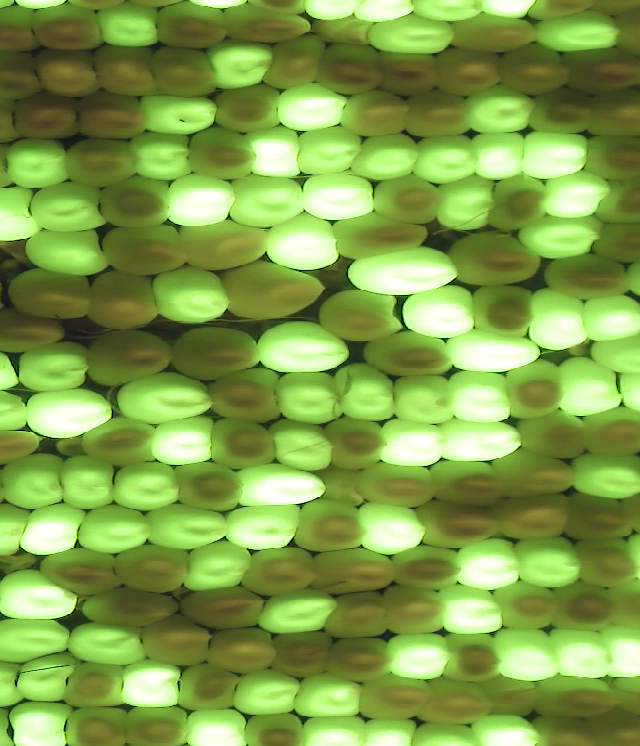fluorescent: (340, 236, 467, 297), (250, 317, 355, 379), (113, 366, 217, 426), (21, 384, 119, 446), (351, 495, 437, 562), (21, 223, 117, 282), (150, 262, 236, 327), (229, 459, 334, 512), (431, 410, 530, 465), (439, 324, 545, 375), (520, 283, 594, 356), (550, 351, 626, 421), (108, 452, 191, 515), (222, 171, 309, 231), (296, 168, 383, 227), (272, 366, 352, 430), (255, 581, 342, 639), (460, 81, 544, 141), (218, 501, 311, 555), (157, 170, 240, 230), (274, 77, 353, 140), (261, 211, 341, 273), (0, 566, 84, 625), (400, 282, 481, 343), (18, 332, 95, 396), (360, 9, 460, 58), (332, 357, 402, 427), (177, 537, 260, 596), (492, 622, 565, 689), (443, 365, 518, 430), (0, 133, 76, 197), (75, 501, 158, 559), (517, 211, 606, 265), (449, 534, 529, 594), (513, 529, 588, 593), (141, 501, 233, 553), (22, 179, 110, 233), (380, 625, 457, 686), (532, 6, 622, 58), (406, 130, 484, 189), (431, 171, 502, 235), (146, 412, 224, 470), (545, 620, 613, 686), (265, 413, 336, 476), (0, 449, 73, 510), (515, 127, 596, 181), (232, 665, 306, 724), (51, 452, 121, 514), (63, 617, 148, 668), (294, 121, 368, 179), (203, 35, 278, 92), (134, 89, 223, 137), (240, 122, 308, 184), (437, 582, 510, 639), (129, 127, 198, 187), (17, 501, 88, 559), (371, 415, 447, 469), (350, 129, 424, 184), (566, 448, 640, 503), (288, 669, 365, 721), (116, 655, 187, 711), (389, 370, 456, 429), (0, 613, 73, 666), (94, 1, 168, 53), (16, 649, 81, 708), (465, 127, 532, 184), (540, 168, 614, 219), (0, 697, 77, 746), (577, 290, 640, 348), (179, 707, 256, 746), (465, 708, 543, 746), (583, 329, 640, 380), (293, 712, 376, 746), (599, 618, 640, 683), (0, 183, 39, 245), (406, 716, 481, 746), (357, 712, 417, 746), (0, 499, 32, 560), (0, 385, 35, 436)
nonfluorescent: (439, 225, 551, 293), (218, 259, 334, 324), (165, 320, 265, 386), (84, 325, 181, 390), (4, 262, 99, 325), (174, 218, 279, 275), (251, 22, 332, 94), (441, 6, 547, 60), (98, 221, 193, 281), (206, 365, 291, 432), (324, 212, 433, 264), (318, 284, 406, 348), (363, 327, 459, 385), (286, 494, 372, 558), (82, 266, 165, 331), (36, 544, 127, 603), (241, 540, 328, 601), (351, 457, 449, 511), (76, 584, 183, 633), (174, 582, 272, 635), (304, 546, 403, 598), (405, 499, 507, 549), (511, 405, 596, 465), (486, 447, 580, 501), (540, 251, 634, 305), (96, 174, 176, 236), (561, 40, 640, 102), (79, 412, 162, 471), (135, 612, 215, 673), (369, 171, 453, 229), (413, 673, 498, 730), (422, 454, 513, 507), (114, 540, 195, 599), (184, 125, 262, 186), (62, 132, 141, 192), (467, 279, 542, 342), (354, 670, 438, 726), (203, 415, 284, 473), (168, 459, 249, 517), (372, 582, 454, 639), (318, 415, 397, 474), (88, 39, 163, 101), (495, 39, 578, 95), (543, 578, 623, 636), (334, 88, 417, 143), (482, 172, 554, 235), (426, 44, 504, 102), (320, 587, 399, 644), (501, 358, 570, 423), (560, 489, 640, 545), (493, 487, 577, 540), (532, 675, 622, 724), (519, 83, 599, 138), (216, 1, 309, 48), (401, 88, 480, 143), (71, 88, 151, 142), (320, 634, 400, 687), (29, 46, 106, 101), (148, 41, 225, 96), (174, 657, 243, 718), (206, 622, 282, 677), (154, 2, 239, 51), (315, 38, 390, 93), (569, 532, 640, 590), (390, 539, 467, 592), (493, 579, 570, 632), (213, 81, 287, 136), (28, 3, 109, 53), (266, 627, 339, 682), (13, 87, 83, 144), (58, 656, 130, 711), (440, 631, 507, 687), (376, 45, 444, 100), (0, 307, 72, 357), (583, 403, 640, 464), (475, 674, 548, 721), (585, 83, 640, 143), (580, 130, 640, 183), (120, 704, 194, 746), (63, 702, 133, 746), (0, 47, 45, 105), (239, 709, 309, 746), (529, 709, 598, 746), (590, 216, 640, 267), (594, 174, 640, 227), (0, 5, 46, 57), (0, 423, 47, 472), (584, 705, 640, 746), (602, 577, 640, 633), (606, 3, 640, 62)
